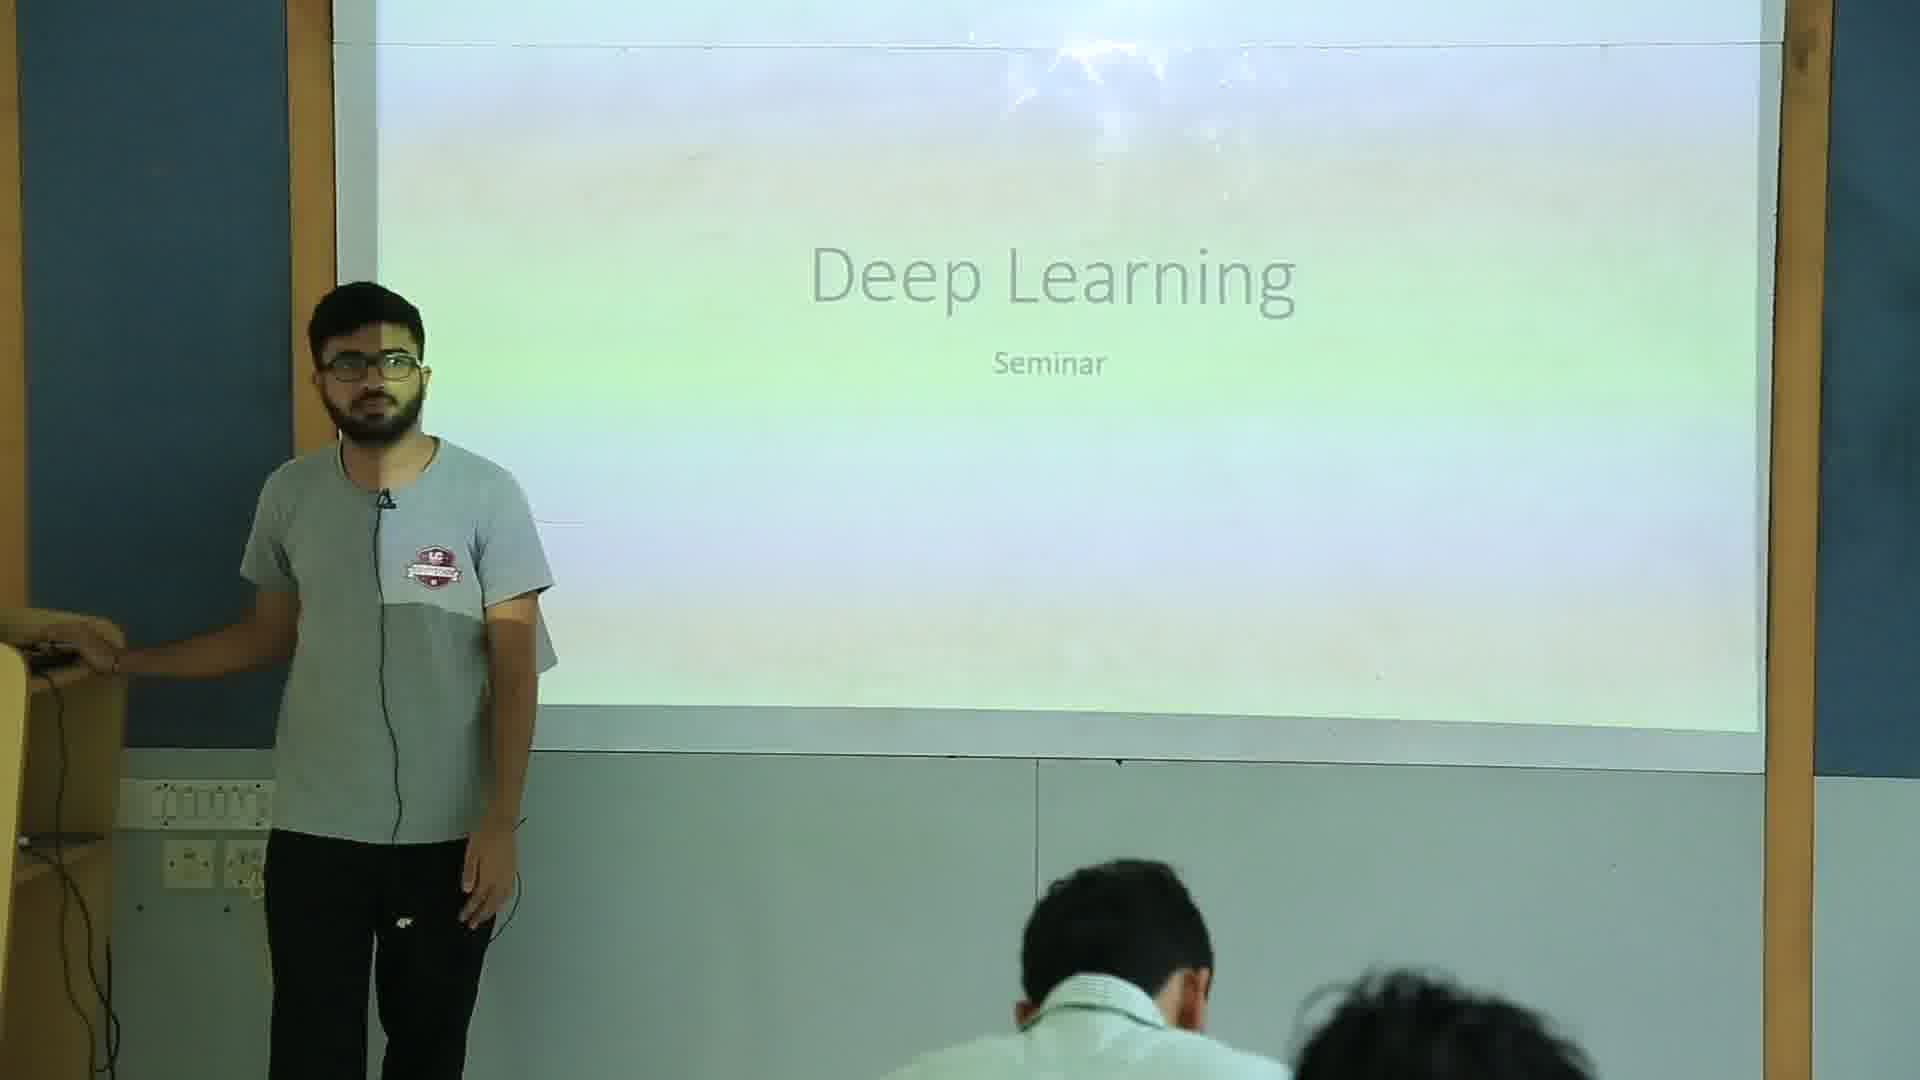slide: (377, 1, 1756, 732)
